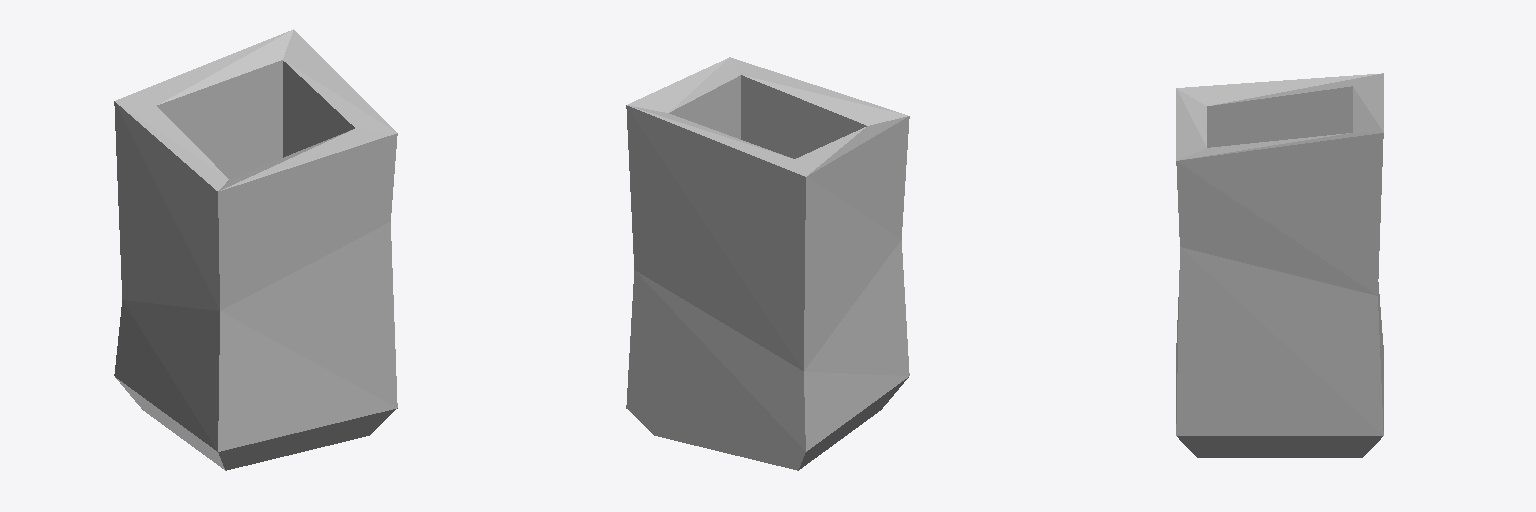
Rendered from collectible_lantern.obj.
The picture shows the model from 3 angles: view 1: azimuth 30°, elevation 25°; view 2: azimuth 150°, elevation 25°; view 3: azimuth 270°, elevation 25°; orthographic projection.
Parts seen in each view (by area): view 1: collectible__lantern_Cube.020; view 2: collectible__lantern_Cube.020; view 3: collectible__lantern_Cube.020.
Boxes of the visible parts, <box> form: collectible__lantern_Cube.020: <box>114,29,397,470</box>; collectible__lantern_Cube.020: <box>626,57,909,470</box>; collectible__lantern_Cube.020: <box>1176,73,1383,457</box>.
Size of the model in its own units: 0.9086 by 1.61 by 0.9086.